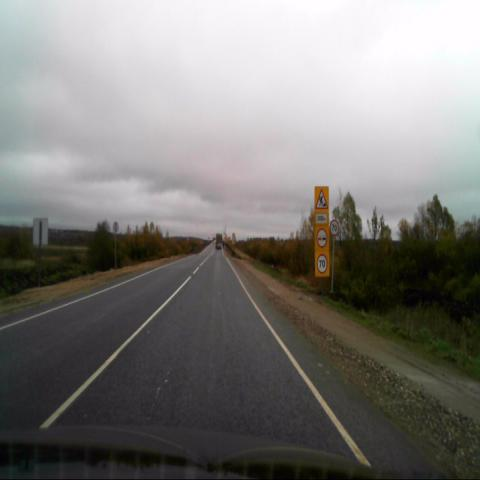3_20: (314, 227, 329, 249)
